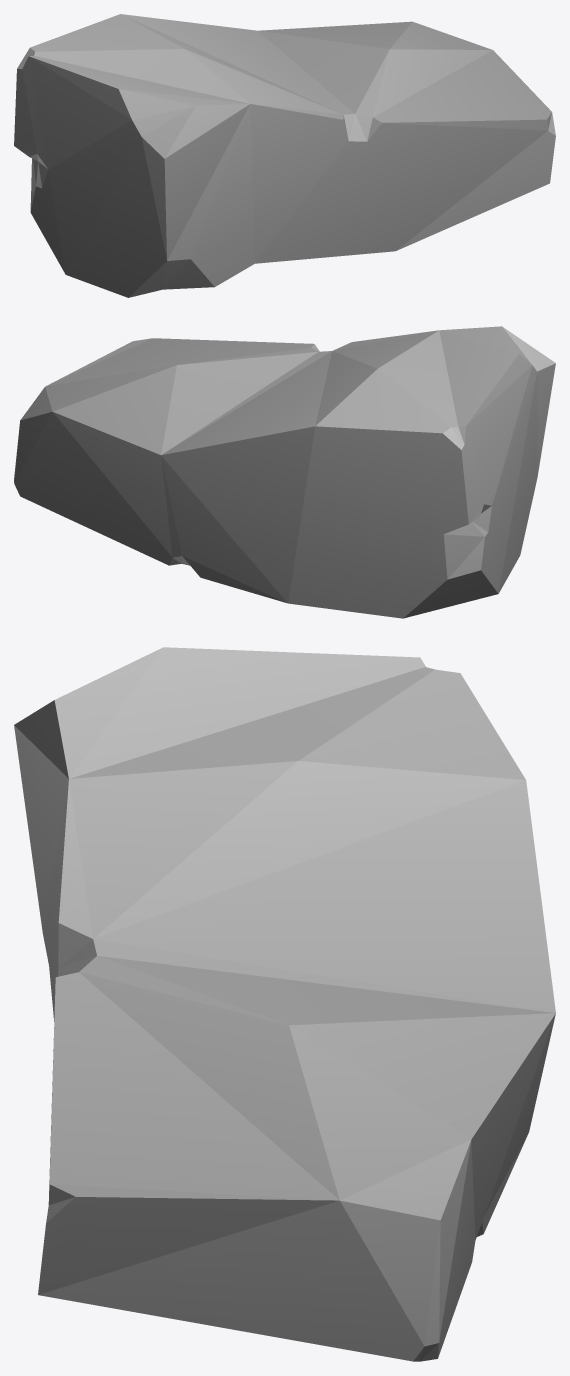
File: stone small 5.fbx
3 views of the same model, one above another, from view 1: azimuth 30°, elevation 25°; view 2: azimuth 150°, elevation 25°; view 3: azimuth 270°, elevation 25° (orthographic). The views are drawn at different scales.
Visible parts, largest first — view 1: stone small 5; view 2: stone small 5; view 3: stone small 5.
Part boxes in pixels (box(x1,y1,x2,y2)): stone small 5: box(14, 14, 555, 297); stone small 5: box(14, 326, 555, 618); stone small 5: box(14, 647, 555, 1361).
Bounding box in the file's own units: 261 × 116 × 148.
